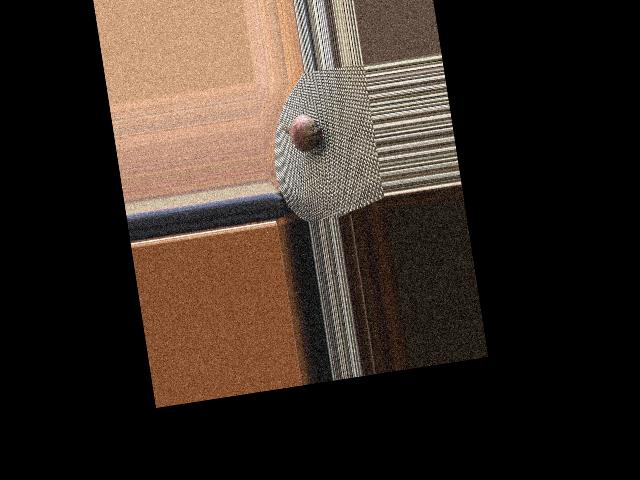beet: (275, 106, 327, 160)
